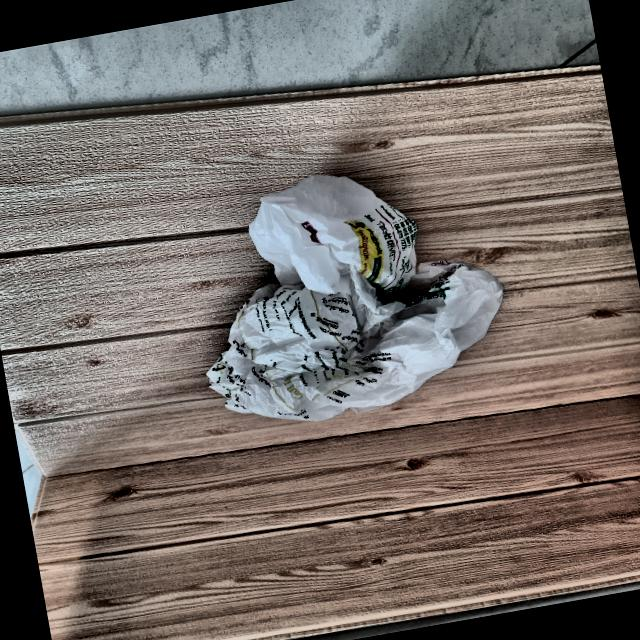plastic bag: (171, 144, 518, 442)
